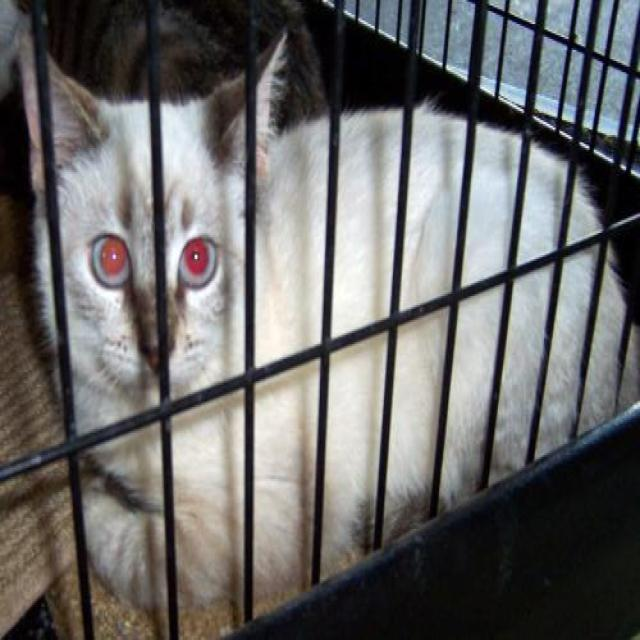Cats: (0, 4, 639, 638)
